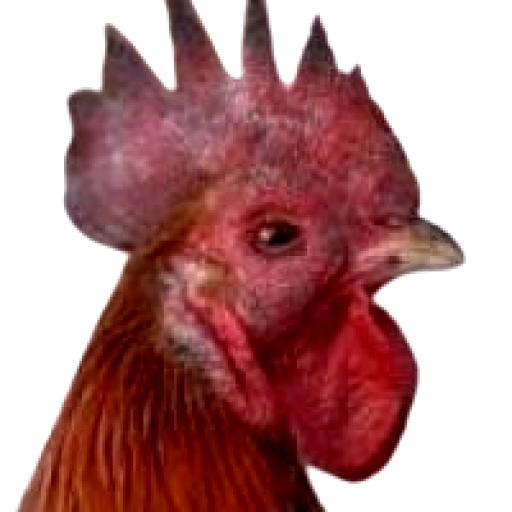disease: (196, 157, 350, 335), (291, 10, 378, 126)
